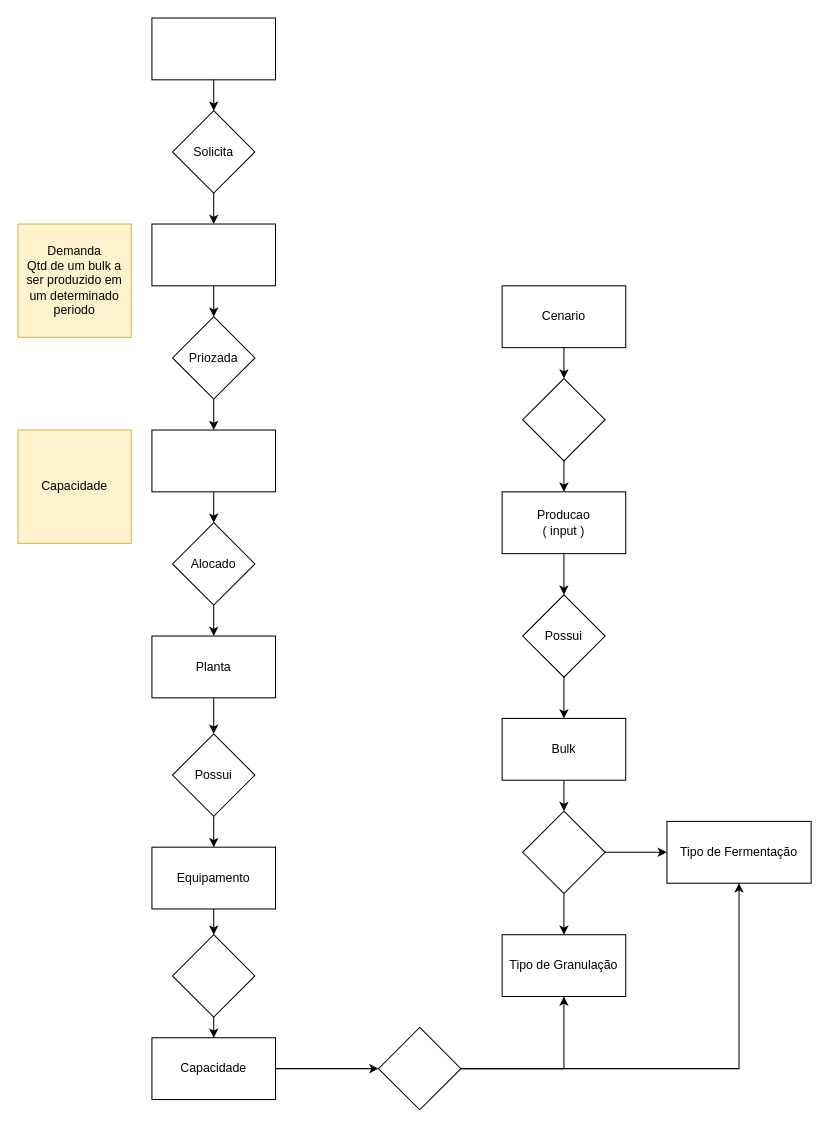
The diagram is 829 pixels wide and 1128 high, and some of its shapes have lost their labels. Each missing label, with the centre of its shape:
"Cliente" belongs at (213,48).
"Composta" belongs at (563,852).
"Demanda" belongs at (213,254).
"Fabrica" belongs at (419,1068).
"Produção" belongs at (213,460).
"Projeta" belongs at (563,419).
"Tem" belongs at (213,975).
